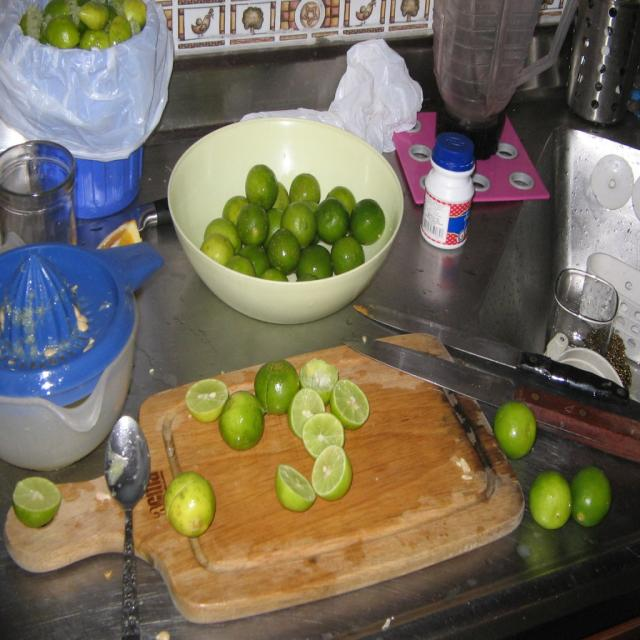Lemon: (186, 364, 368, 509), (203, 164, 383, 282), (23, 1, 145, 50), (167, 470, 216, 540), (11, 478, 63, 527), (569, 465, 610, 526), (494, 398, 536, 456), (530, 473, 572, 527)
